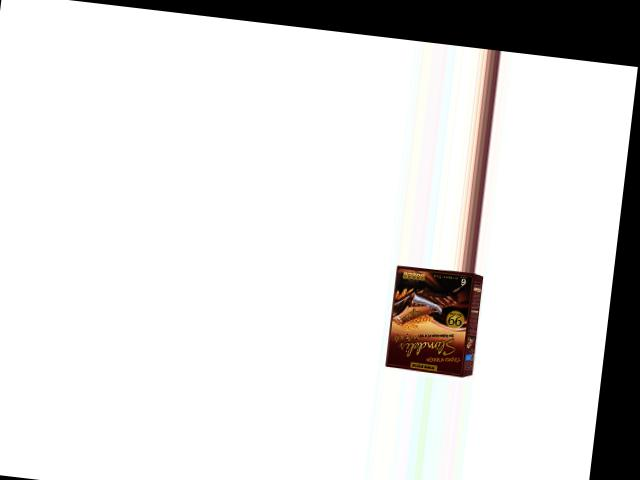chocolate: (375, 262, 489, 380)
